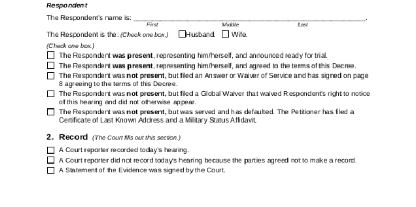checkbox: (46, 50, 55, 60), (46, 60, 55, 70), (46, 71, 55, 81), (46, 89, 55, 99), (46, 107, 55, 117), (46, 145, 55, 155), (46, 155, 55, 165), (46, 165, 55, 175), (178, 30, 186, 38), (221, 30, 229, 38)
textline: (132, 14, 368, 23)
